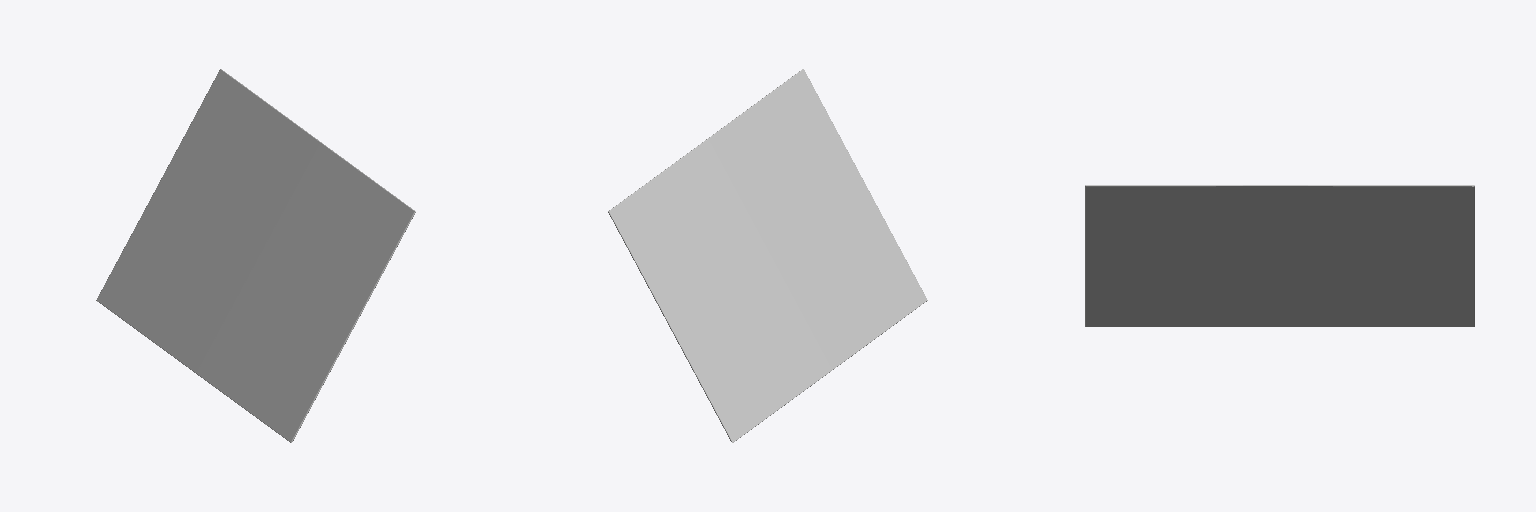
The model's file is Cover_Cube_003.obj.
The picture shows the model from 3 angles: view 1: azimuth 30°, elevation 25°; view 2: azimuth 150°, elevation 25°; view 3: azimuth 270°, elevation 25°; orthographic projection.
Visible parts, largest first — view 1: Cover_Cube.003; view 2: Cover_Cube.003; view 3: Cover_Cube.003.
Part boxes in pixels (bbox=[...]): Cover_Cube.003: bbox=[96, 69, 415, 442]; Cover_Cube.003: bbox=[608, 69, 927, 442]; Cover_Cube.003: bbox=[1085, 185, 1474, 326].
Bounding box in the file's own units: 2.3 × 3.55 × 6.2.